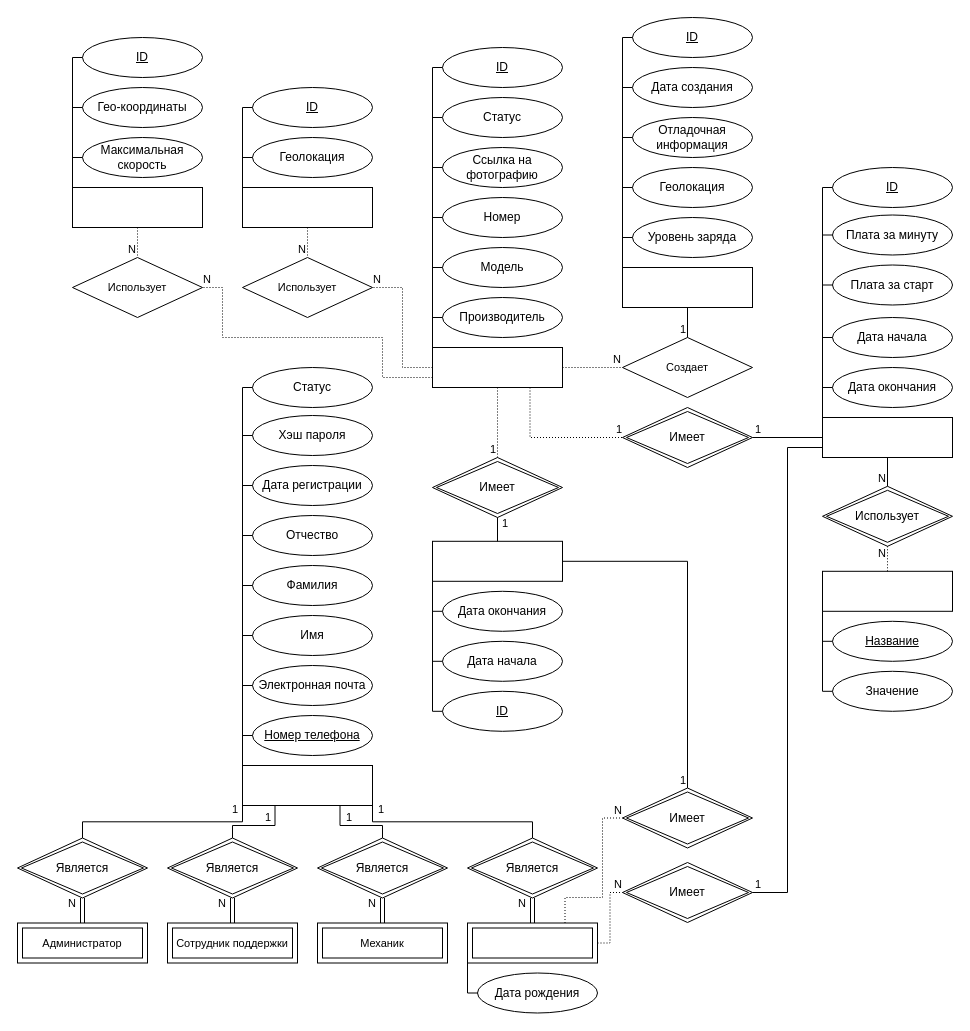
Image size: 970x1031. Some labels were removed from this diagram. Each missing label, with the centre of its shape:
Аккаунт: the point at 307,785
Аренда: the point at 887,437
Бронирование: the point at 497,560
Запись в истории перемещений: the point at 687,287
Зона ограничения скорости: the point at 137,207
Настройка: the point at 887,590
Парковка: the point at 307,207
Пользователь: the point at 532,942
Электросамокат: the point at 497,367
